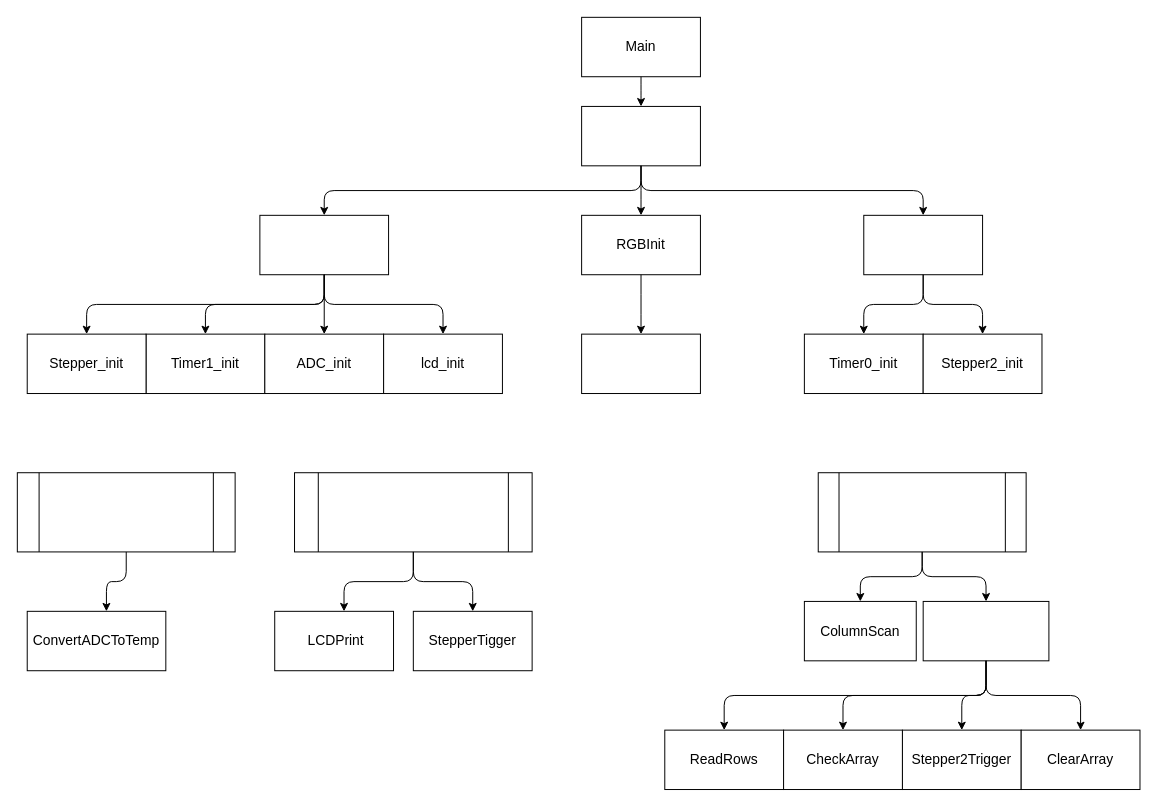
This 1157x807 diagram has some shape labels left out. Here are the shapes that lost their labels. From the top down, the box of each, then its label:
(581, 105, 700, 166): Init
(259, 214, 389, 275): TempInit
(863, 214, 983, 275): FrontInit
(581, 333, 700, 394): Timer3_init
(16, 472, 235, 552): ISR(ADC_vect)
(294, 472, 532, 552): ISR(TIMER1_COMPA_vect)
(817, 472, 1026, 552): ISR(PCINT2_vect)
(922, 600, 1049, 661): StoreKeyPress
